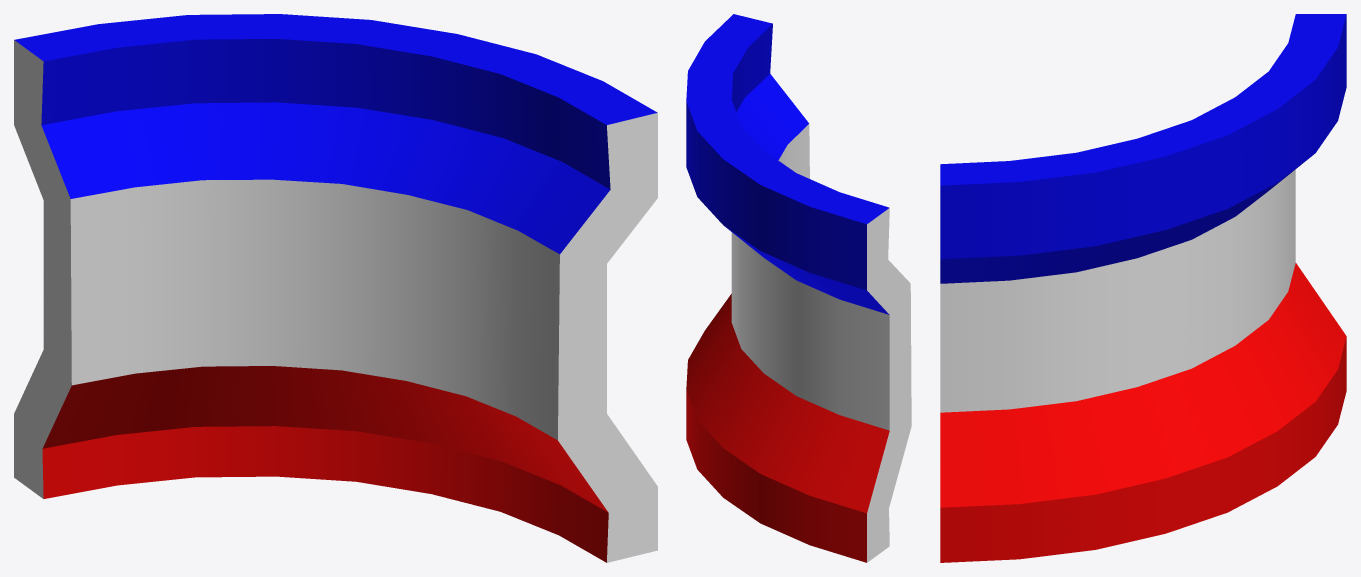
Rendered from Scifi2_WallA_CornerOut.fbx.
3 renders of one model, left to right at view 1: azimuth 30°, elevation 25°; view 2: azimuth 150°, elevation 25°; view 3: azimuth 270°, elevation 25°, orthographic. The views are drawn at different scales.
Visible parts, largest first — view 1: WallA_CornerOut; view 2: WallA_CornerOut; view 3: WallA_CornerOut.
Boxes of the visible parts, left/top/right/bottom form: WallA_CornerOut: left=14, top=14, right=657, bottom=562; WallA_CornerOut: left=686, top=14, right=911, bottom=562; WallA_CornerOut: left=940, top=14, right=1346, bottom=562.
Bounding box in the file's own units: 400 × 410 × 400.
